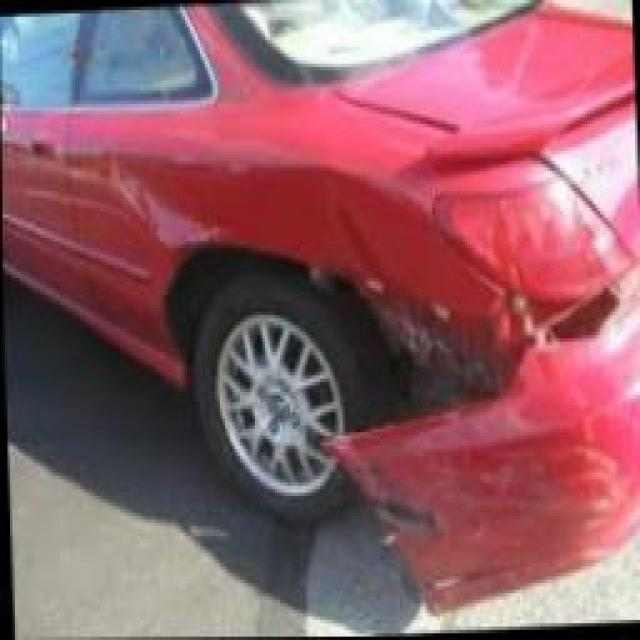replaceable: (326, 259, 640, 572)
